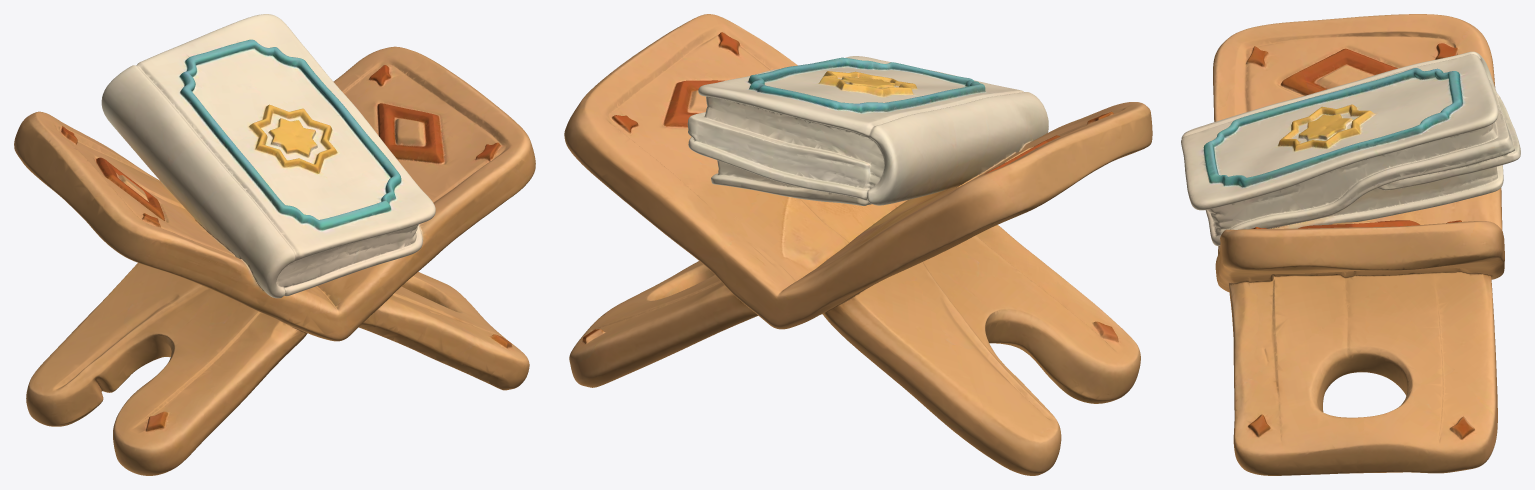
The model's file is rehal-quran-variant-05-closed-ivory-book.glb.
The picture shows the model from 3 angles, left to right: view 1: azimuth 30°, elevation 25°; view 2: azimuth 150°, elevation 25°; view 3: azimuth 270°, elevation 25°; orthographic projection. The views are drawn at different scales.
Visible parts, largest first — view 1: mesh_node; view 2: mesh_node; view 3: mesh_node.
Boxes of the visible parts, x1,y1,x2,y2 form: mesh_node: (14, 14, 535, 475); mesh_node: (564, 14, 1152, 475); mesh_node: (1181, 14, 1520, 475).
Size of the model in its own units: 1.9 by 1.33 by 1.33.
1 material, 1 textured.
